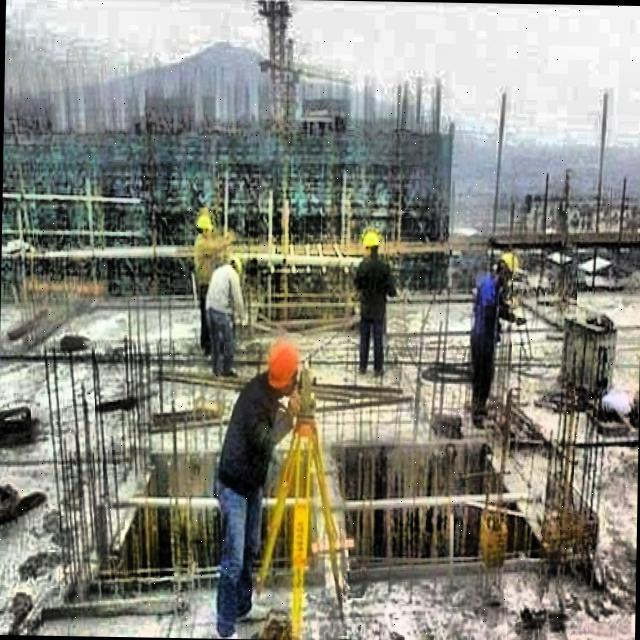helmet: (266, 336, 303, 392), (494, 245, 522, 285), (193, 208, 213, 236), (360, 231, 380, 255), (228, 247, 242, 273)
